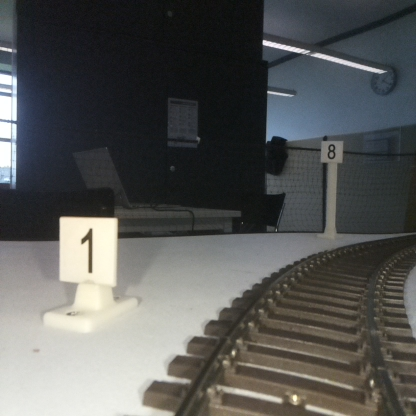white-info-8: (321, 140, 342, 238)
white-stop-1: (59, 218, 116, 326)
